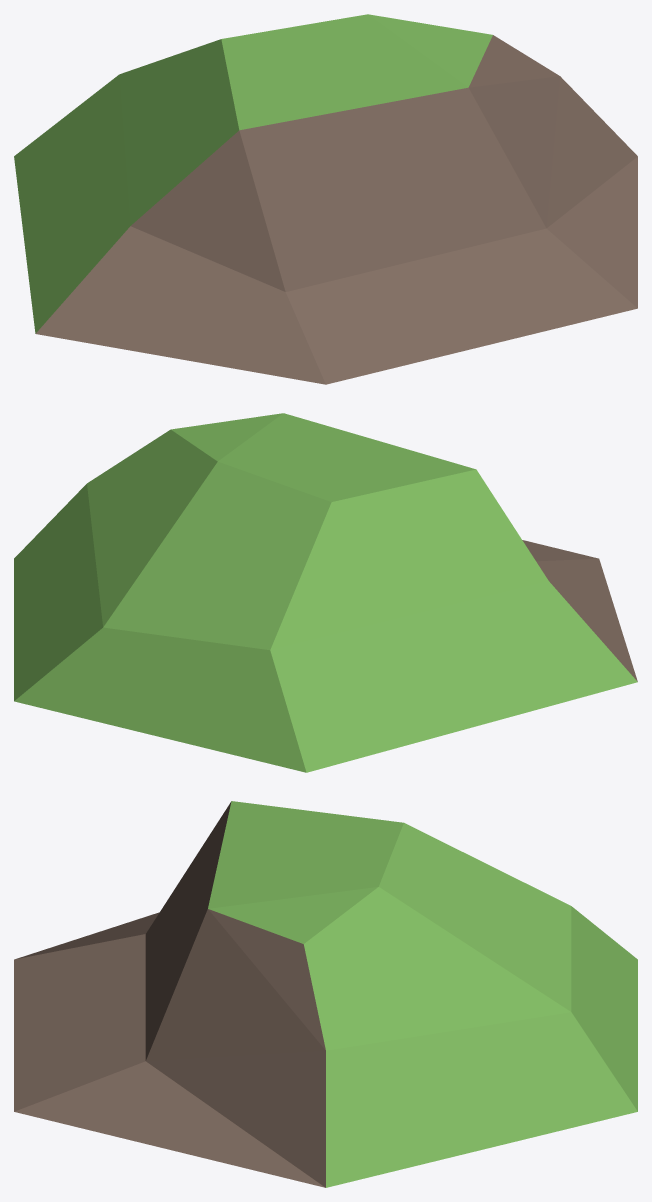
Rendered from Hill01.fbx.
3 views of the same model, one above another, from view 1: azimuth 30°, elevation 25°; view 2: azimuth 150°, elevation 25°; view 3: azimuth 270°, elevation 25° (orthographic). The views are drawn at different scales.
Parts seen in each view (by area): view 1: Hill; view 2: Hill; view 3: Hill.
Part boxes in pixels (box(x1,y1,x2,y2)): Hill: box(14, 14, 637, 384); Hill: box(14, 413, 637, 772); Hill: box(14, 801, 637, 1187).
Bounding box in the file's own units: 1.44 × 0.3969 × 1.23.
